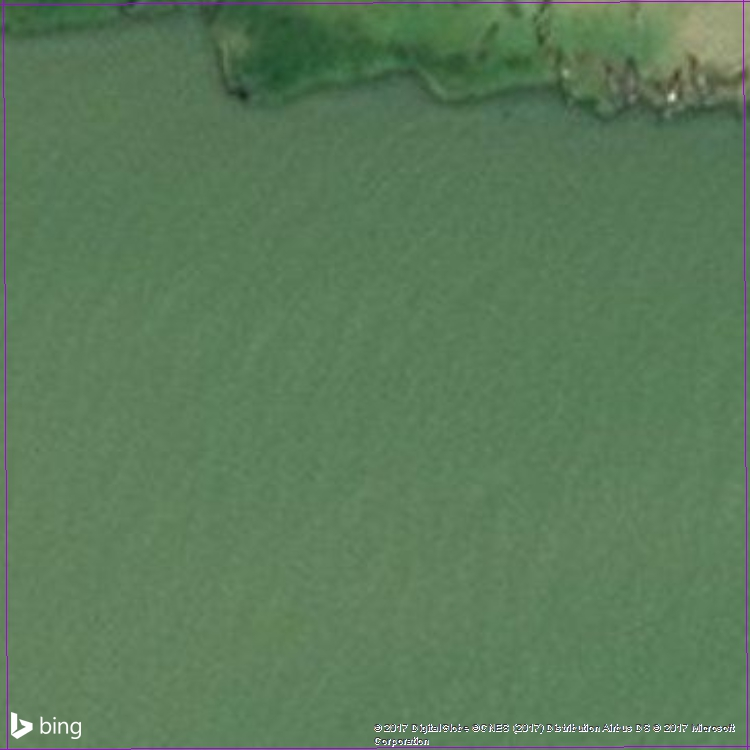boat: (675, 36, 719, 114), (596, 53, 628, 122), (659, 64, 689, 130), (553, 48, 579, 117), (620, 48, 643, 119), (529, 1, 558, 57)
